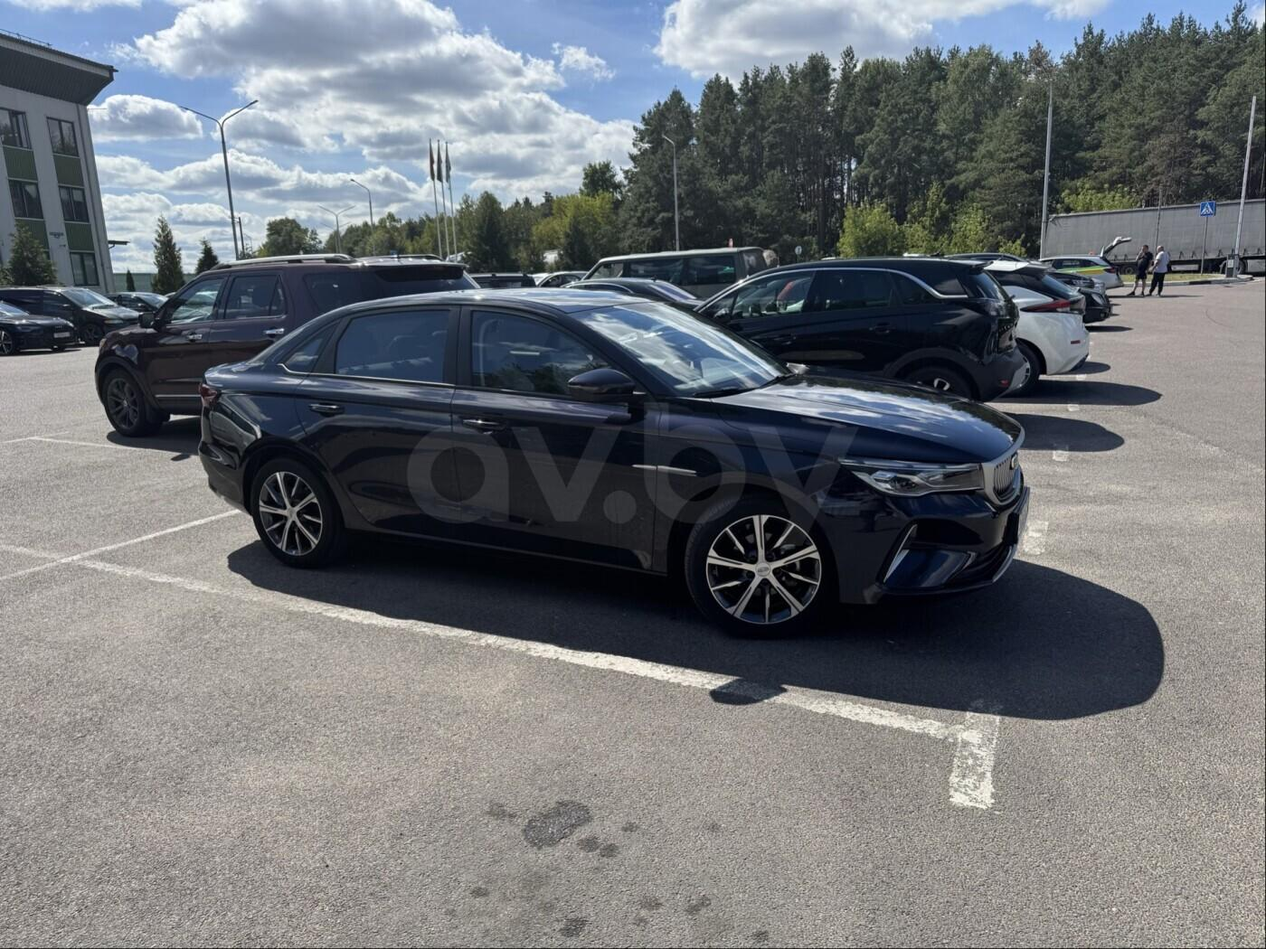Emgrand_2021: (191, 283, 1033, 637)
